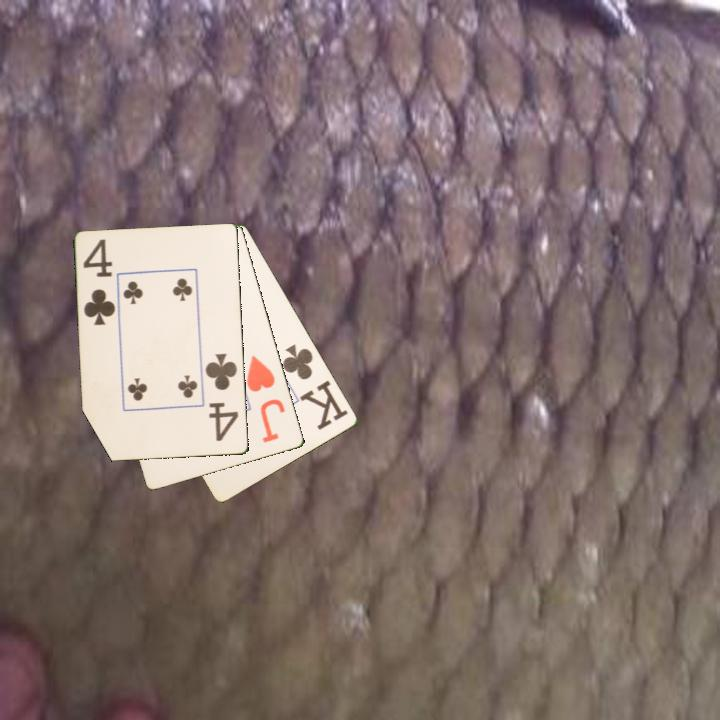4c: (202, 350, 241, 445), (80, 236, 118, 329)
Jh: (243, 352, 288, 446)
Kc: (279, 340, 351, 433)
